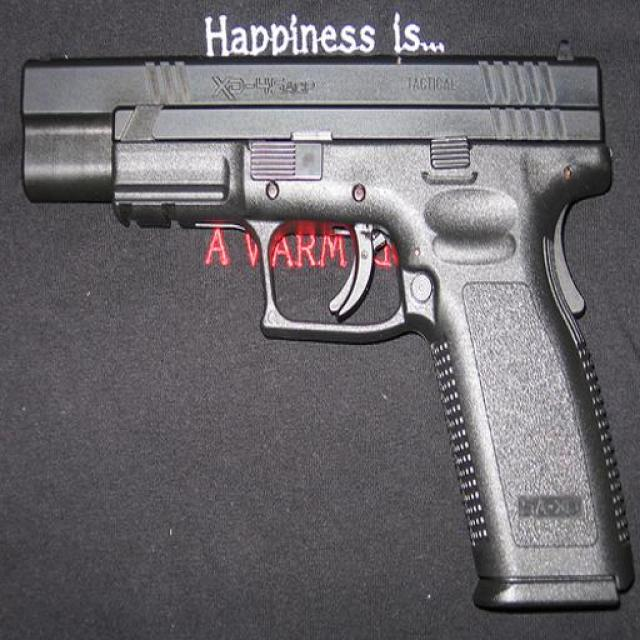pistol: (20, 38, 632, 613)
